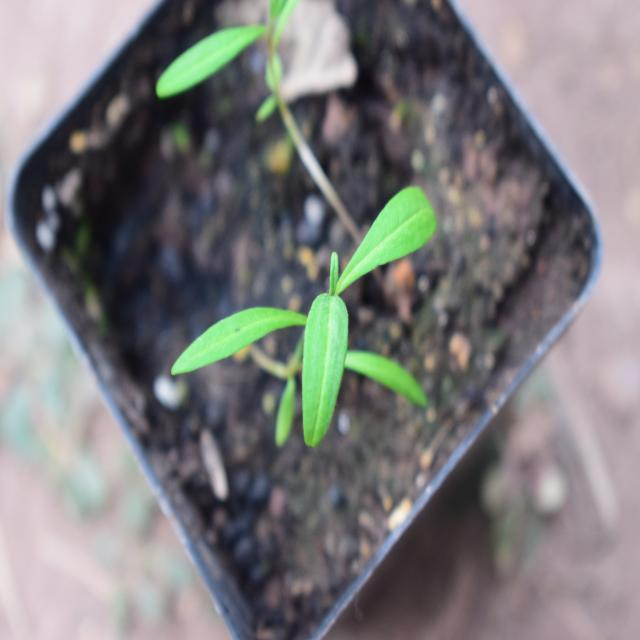white_smart_weed: (172, 190, 459, 454)
